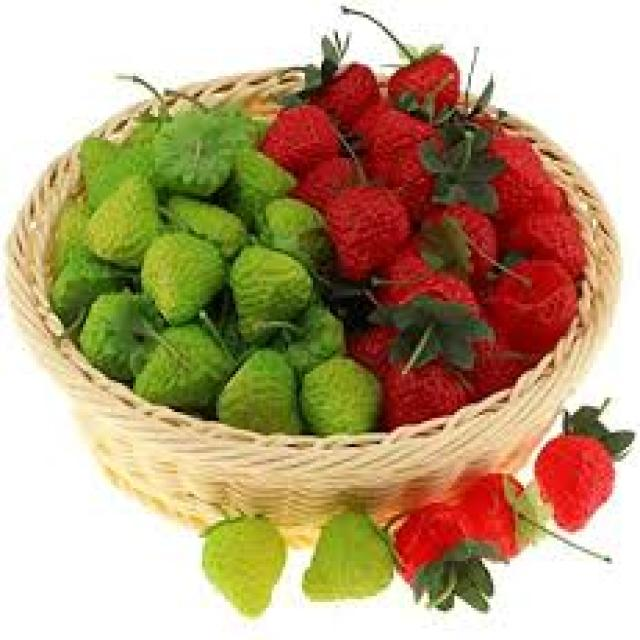immature: (304, 508, 395, 602), (202, 518, 286, 616), (136, 328, 238, 407), (232, 245, 313, 342), (219, 351, 301, 441), (145, 233, 224, 325), (304, 355, 380, 437), (91, 175, 160, 261)
mature: (538, 431, 616, 532), (328, 188, 407, 280), (390, 53, 460, 122)
